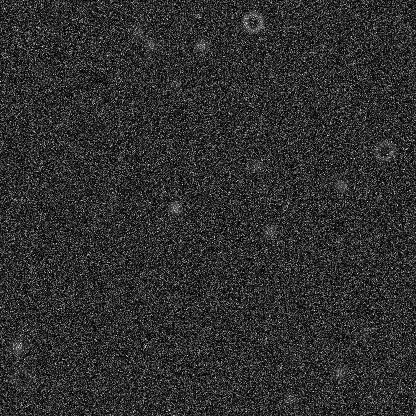Ring: (372, 138, 396, 162), (241, 10, 265, 34), (9, 366, 33, 390)
Spot: (143, 37, 159, 53), (9, 338, 25, 354), (130, 24, 146, 40), (193, 36, 209, 52), (167, 77, 183, 93), (331, 363, 347, 379), (354, 325, 370, 341), (167, 199, 183, 215), (283, 198, 299, 214), (333, 177, 349, 193), (248, 157, 264, 173), (282, 391, 298, 407), (261, 223, 277, 239)
